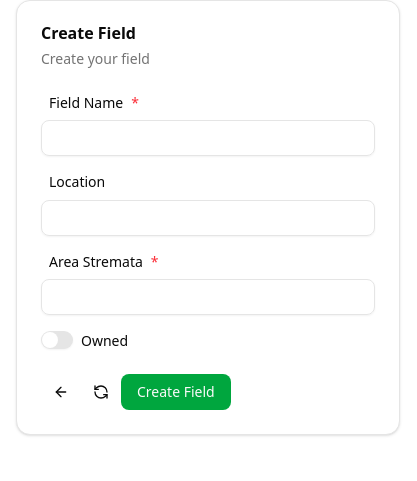
it: CreateFieldForm Tests › Area zero value error
The image size is (417, 481).
Type "My Field" into the field labelled "Field Name *" at x=208, y=138, box x1=41 y1=120 x2=375 y2=156
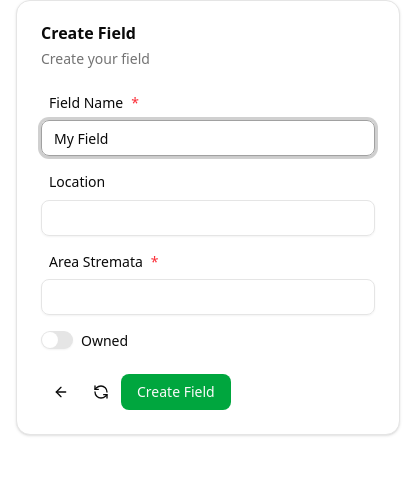
Type "0" into the field labelled "Area Stremata *" at x=208, y=297, box x1=41 y1=279 x2=375 y2=315
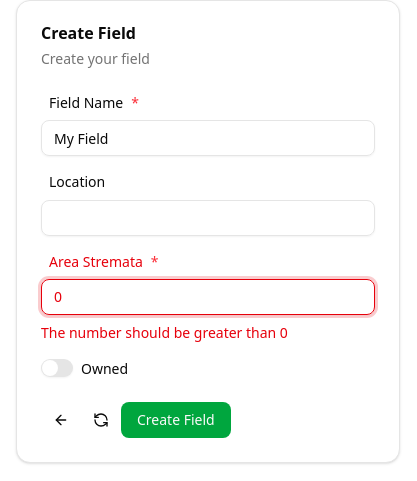
Now the text "The number should be greater than 0" is shown, box x1=41 y1=323 x2=288 y2=342
